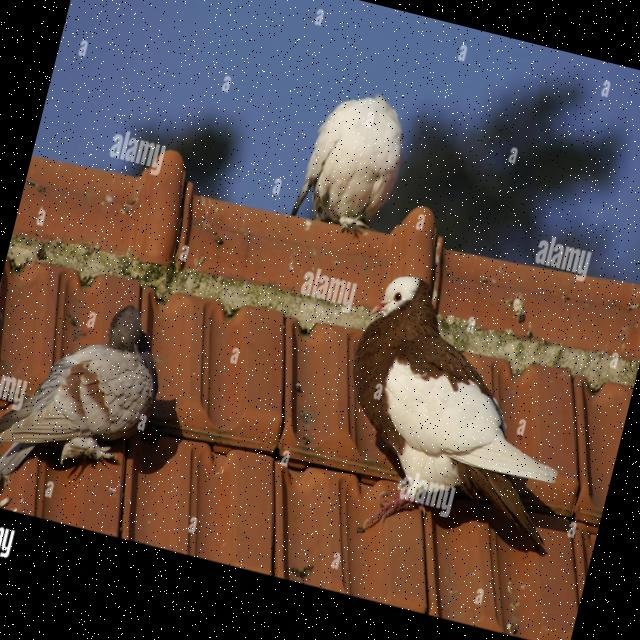bird: (311, 264, 604, 576), (0, 278, 176, 519), (284, 78, 418, 246)
